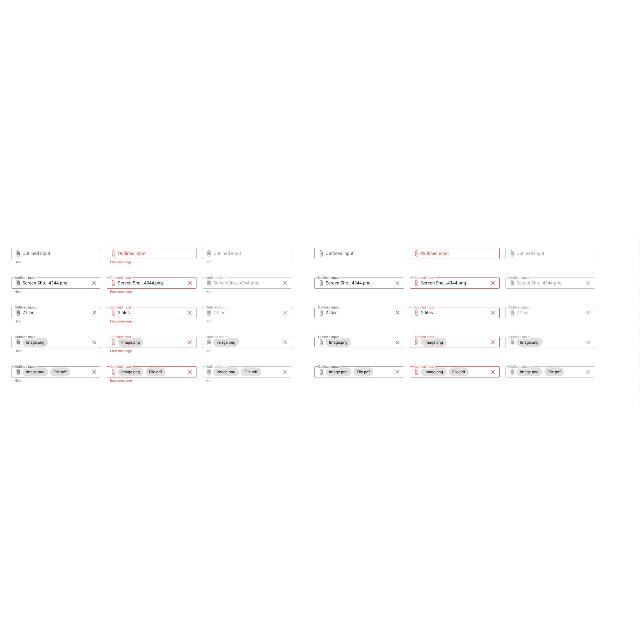VFileInput: (106, 246, 198, 264), (106, 364, 198, 382), (10, 364, 101, 382), (202, 334, 292, 352), (202, 365, 292, 383), (11, 247, 101, 263), (202, 247, 292, 263), (11, 276, 101, 292), (107, 276, 197, 292), (11, 306, 101, 322), (106, 306, 196, 322), (11, 336, 101, 352), (106, 336, 196, 352), (202, 276, 292, 292), (202, 306, 292, 322), (314, 334, 404, 348), (314, 364, 404, 378), (410, 334, 500, 348), (410, 364, 500, 378), (505, 364, 595, 378), (314, 247, 404, 259), (410, 247, 500, 259), (505, 246, 595, 258), (314, 276, 404, 288), (314, 306, 404, 318), (410, 276, 500, 288), (410, 306, 500, 318), (505, 276, 595, 288), (505, 306, 595, 318), (505, 336, 595, 348)
